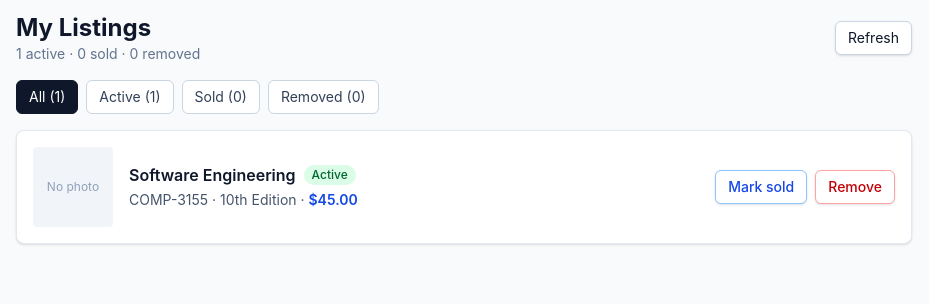
MyListingsView Component (US-07) › keeps the old status and shows the error when an update fails
The image size is (929, 304).
expect the heading "Software Engineering" is shown: met, box [129,164,296,186]
Click the button "Remove".
click(855, 187)  # box [815,170,895,204]
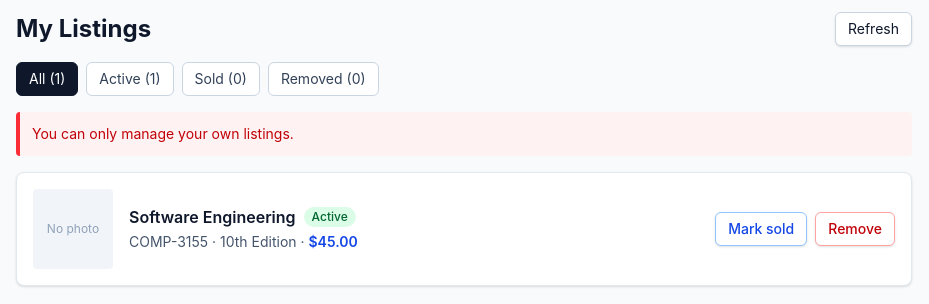
expect the text "Active" is shown: met, box [304,207,356,227]
expect the message shows "only manage your own listings": met, box [32,125,294,142]
